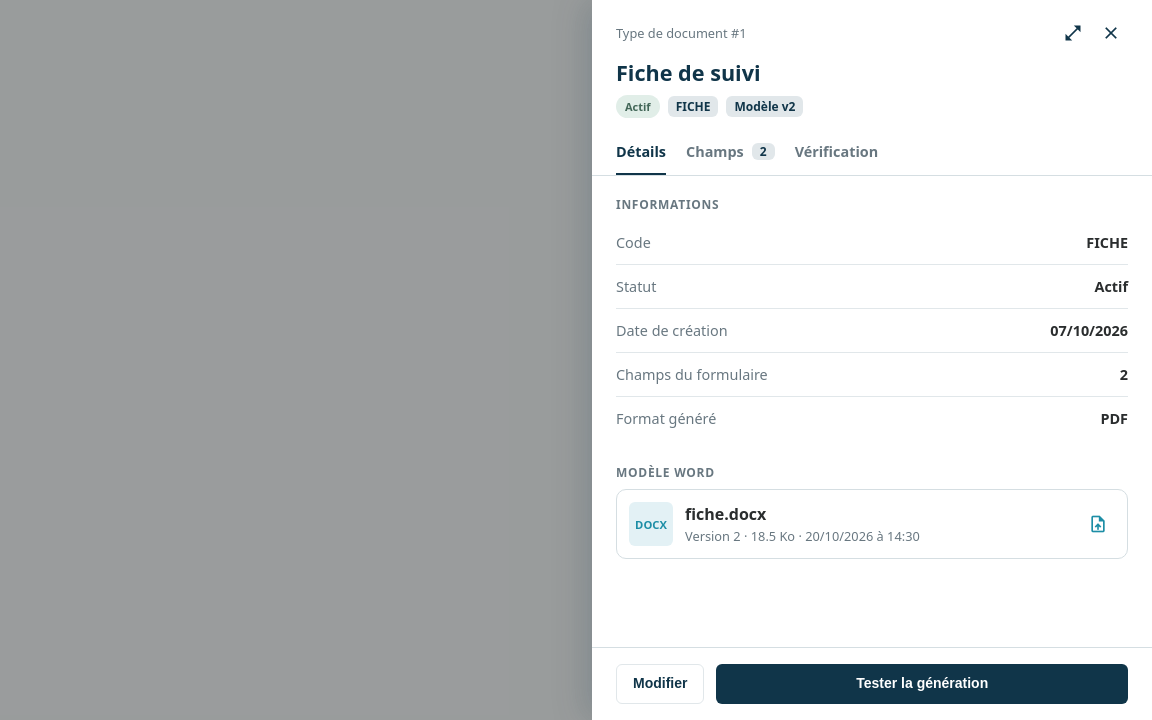
Test case: DocumentTypeConfigComponent › should show the information, the template and the fields of the type
The width and height of the screenshot is (1152, 720).
Click the tab "Champs 2" at (730, 155), box [686,134,775,175]
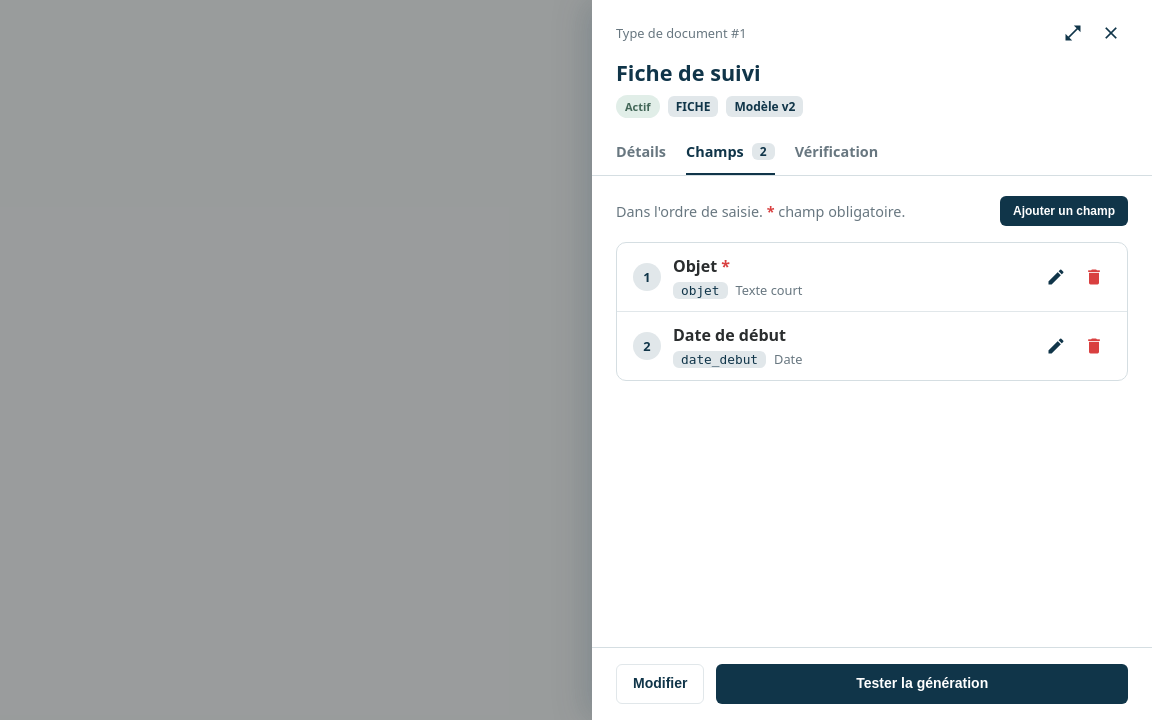
Expected: the list item with class "config-field" shows "date_debut", [681,352,758,367]
Expected: the list item with class "config-field" shows "Date", [774,350,802,368]
Expected: the list item with class "config-field" shows "*", [721,255,730,277]
